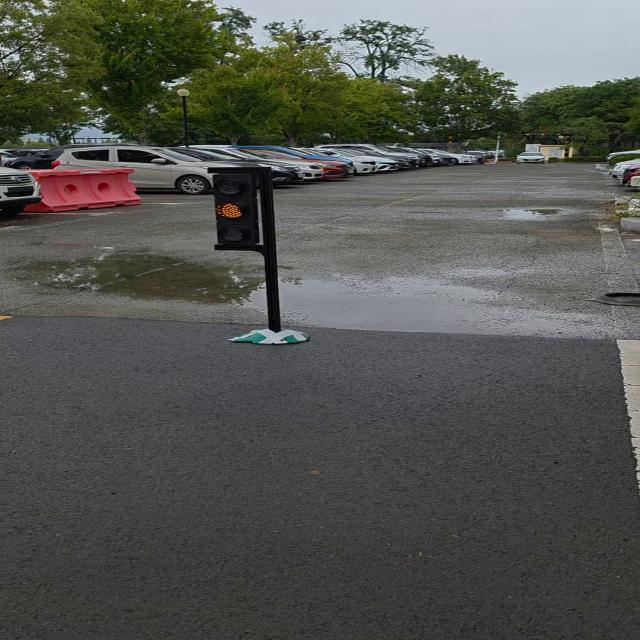yellow: (207, 166, 264, 249)
